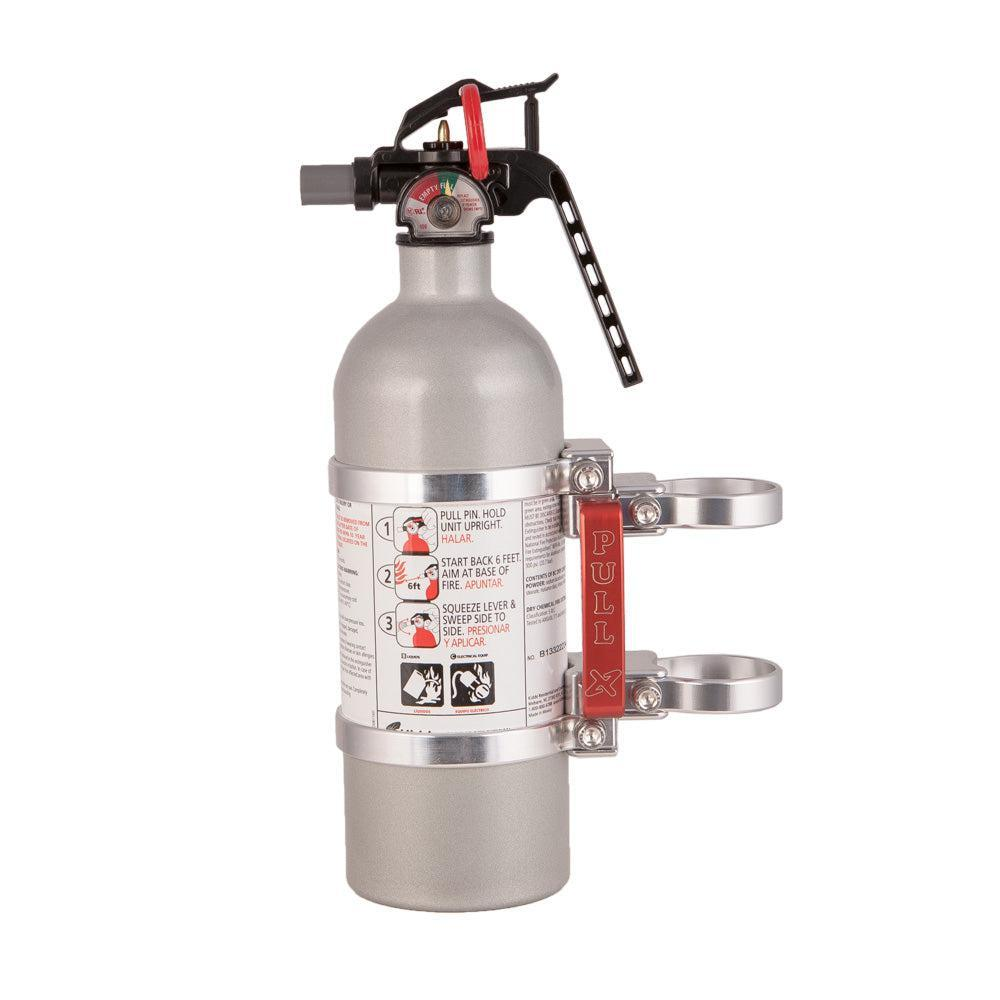Fire Extinguisher: (295, 65, 668, 933)
